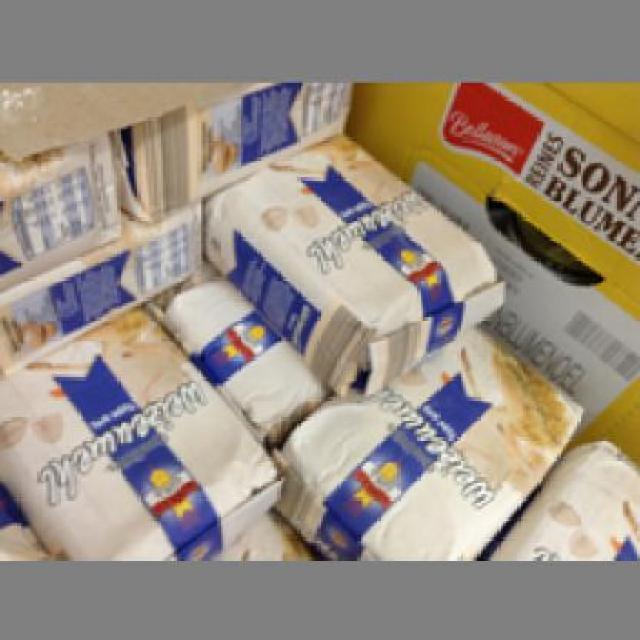Flour: (200, 132, 506, 398), (271, 323, 580, 557), (0, 300, 283, 554)
